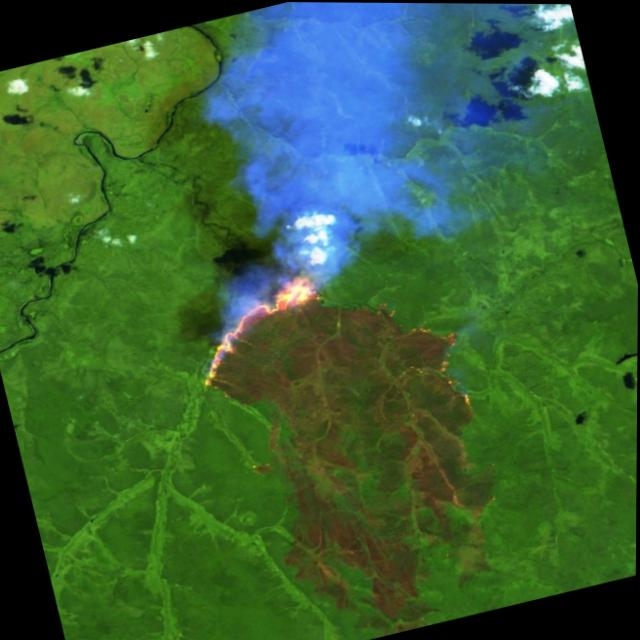fire: (167, 249, 362, 395)
